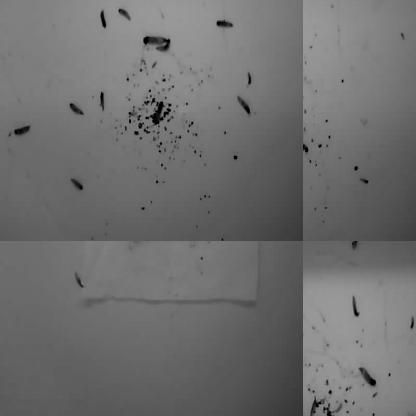PtecticusTenebrifer: (359, 366, 377, 388), (236, 92, 252, 116), (144, 35, 168, 46), (69, 101, 84, 118), (14, 124, 31, 137), (216, 18, 234, 30), (70, 176, 83, 191), (100, 8, 108, 29), (119, 7, 131, 20), (303, 84, 308, 114), (352, 296, 359, 317), (100, 90, 105, 113), (303, 225, 311, 239), (303, 140, 311, 152), (303, 365, 308, 384), (303, 74, 307, 95), (303, 402, 309, 416), (351, 241, 360, 250), (366, 241, 374, 251), (278, 0, 291, 6), (247, 71, 252, 86), (349, 241, 366, 245), (7, 0, 18, 6), (303, 6, 308, 19), (410, 316, 414, 331), (303, 241, 312, 247), (303, 57, 309, 65), (303, 0, 311, 5)
